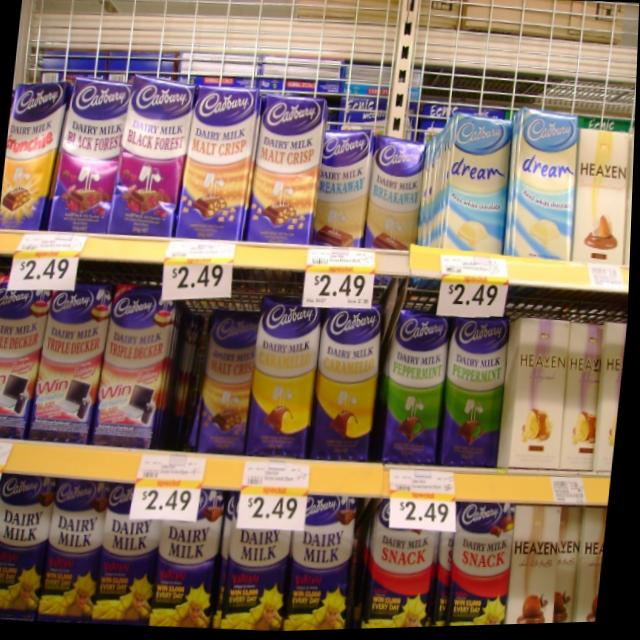q145: (153, 488, 231, 631), (284, 496, 365, 633), (220, 491, 292, 634), (97, 482, 166, 626), (48, 481, 111, 625), (0, 476, 59, 622)
